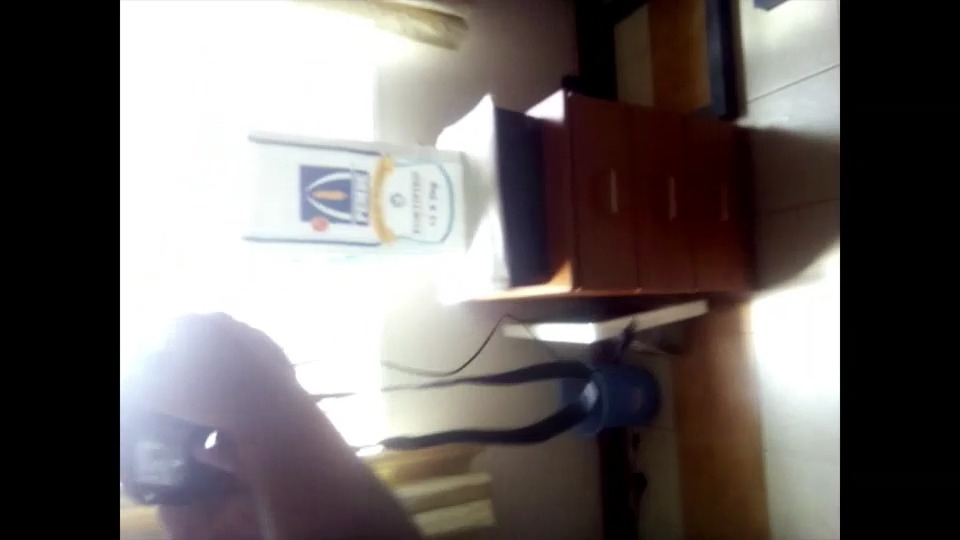wheat_flour_blue_label: (227, 133, 470, 272)
